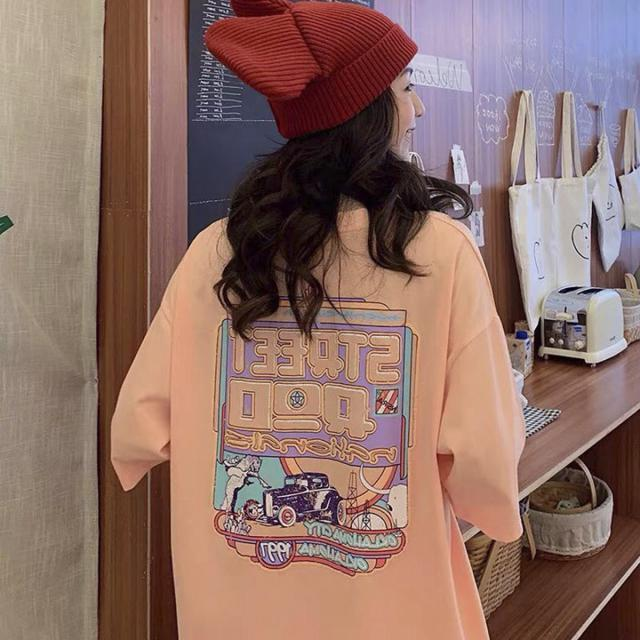Shirt: (109, 198, 531, 639)
